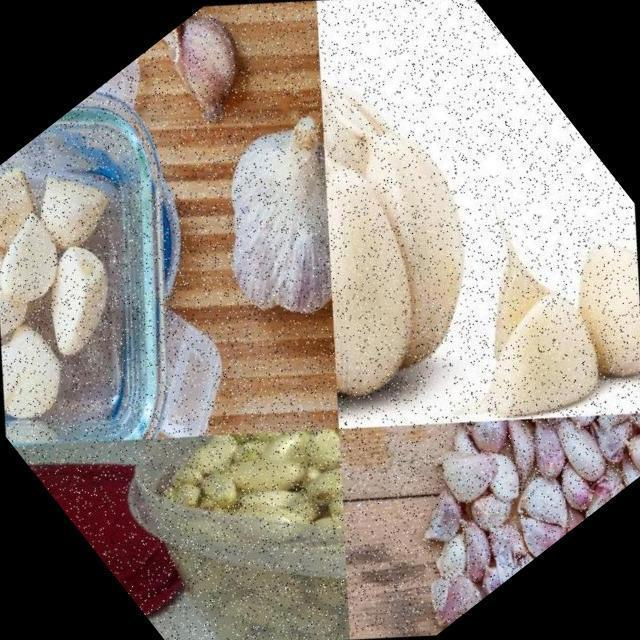garlic: (146, 0, 640, 464), (64, 347, 445, 640), (328, 312, 640, 636), (372, 134, 640, 498), (126, 65, 424, 367), (0, 111, 234, 472), (108, 0, 290, 165)
